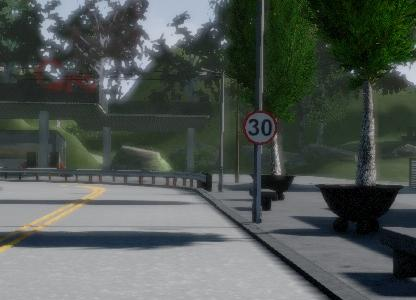Speed_60: (264, 75, 313, 125)
